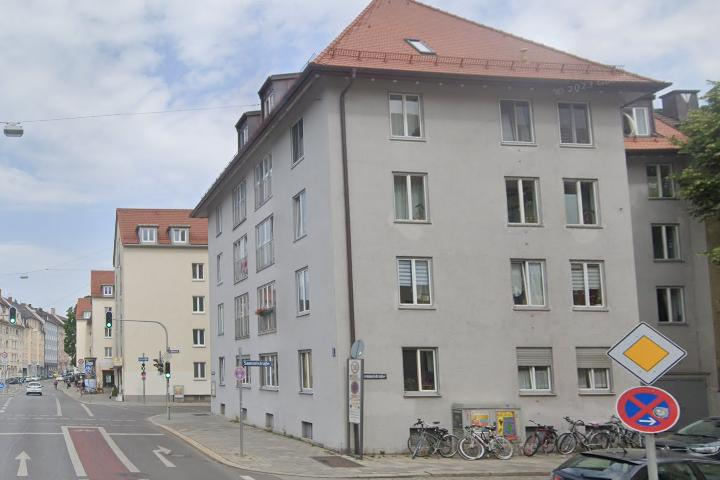traffic_sign: (607, 321, 688, 387), (615, 385, 681, 434)
vehicle: (25, 381, 44, 395)
